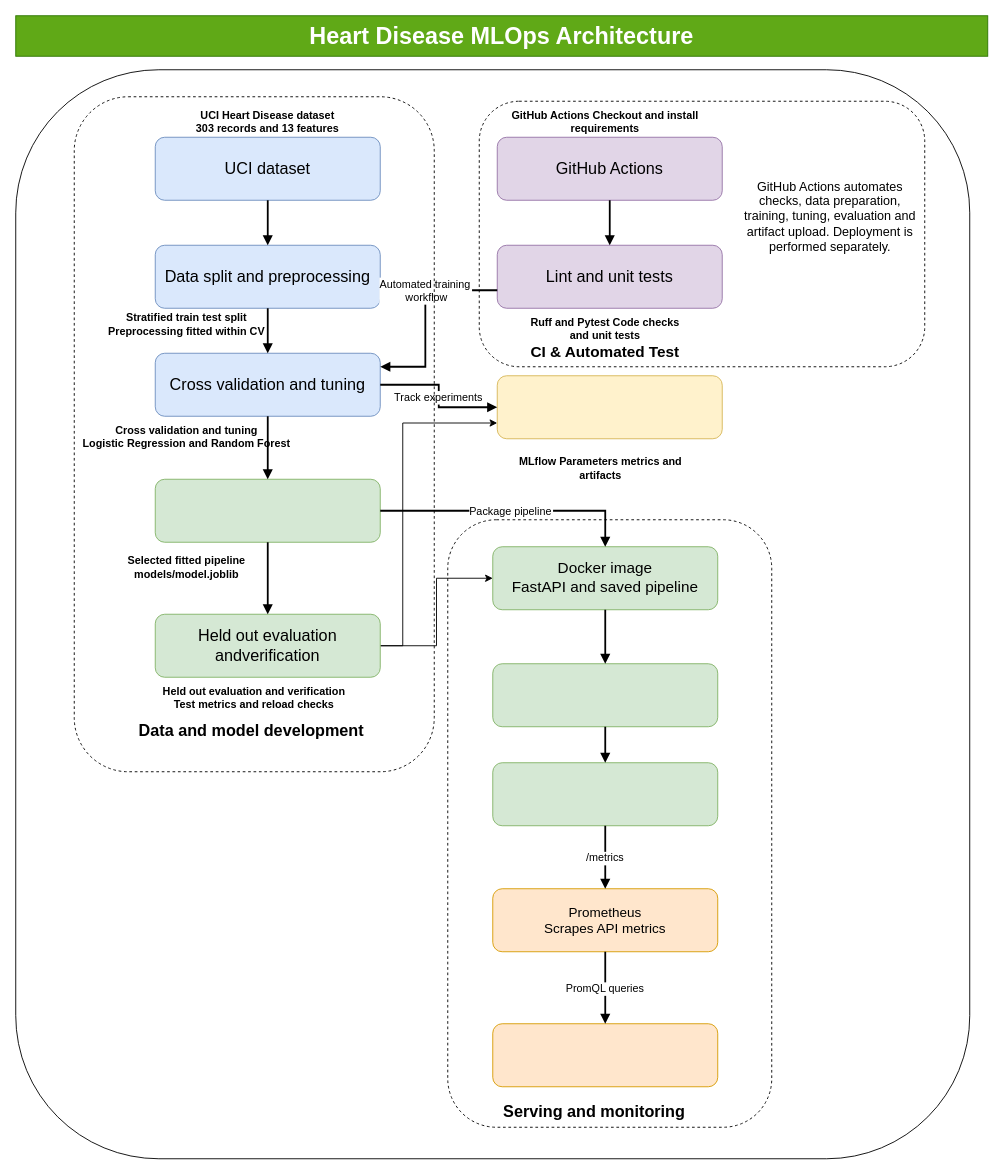
This 1004x1175 diagram has some shape labels left out. Here are the shapes that lost their labels. From the top down, the centre of each, then its label:
At point 609,407: "MLflow experiments andartifacts".
At point 267,510: "Saved pipeline model.joblib".
At point 605,695: "Kubernetes Deployment and Service Docker Desktop locally or Minikube in Lab".
At point 605,794: "Prediction API /health /predict /docs /metrics".
At point 605,1055: "Grafana dashboard Availability traffic errors and latency".
